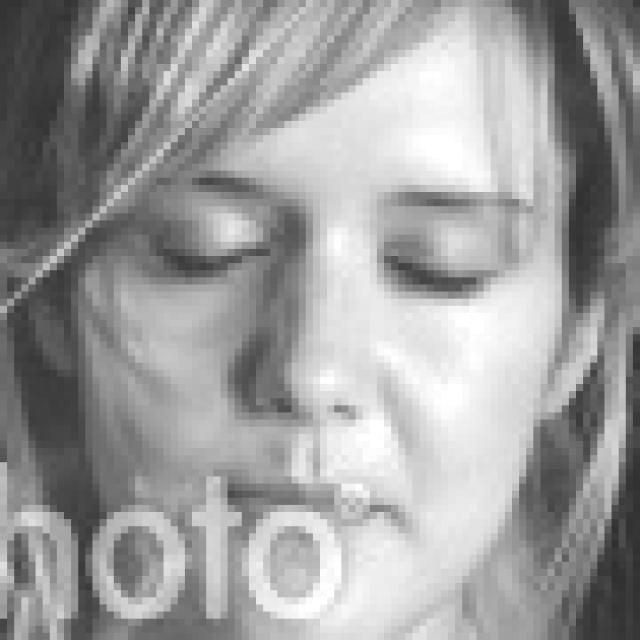real: (66, 14, 568, 630), (152, 190, 518, 332)
